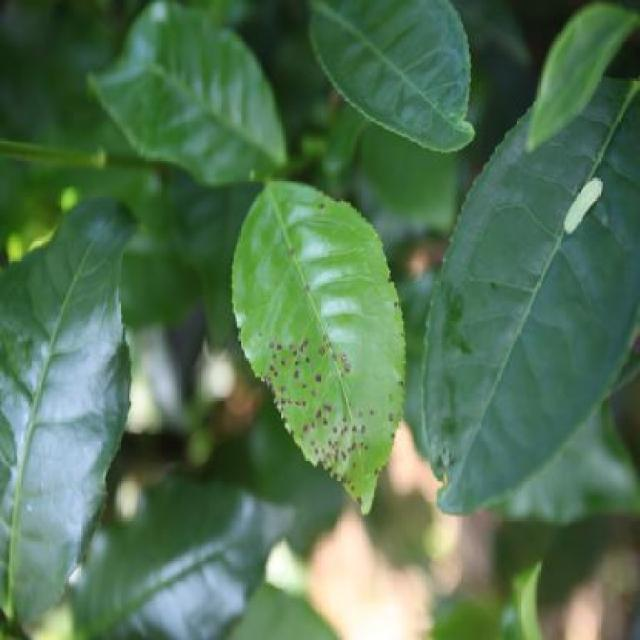Tea Mosquito bug infested leaf: (224, 186, 413, 537)
